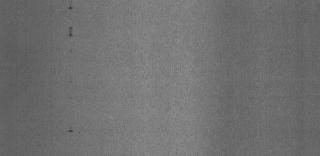oil spot: (66, 24, 74, 40), (68, 94, 74, 102), (68, 3, 74, 10), (68, 125, 74, 132), (68, 47, 74, 53)
